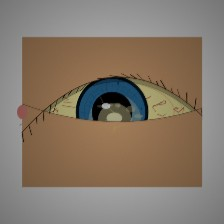corneal_ulcer: (87, 98, 142, 142)
